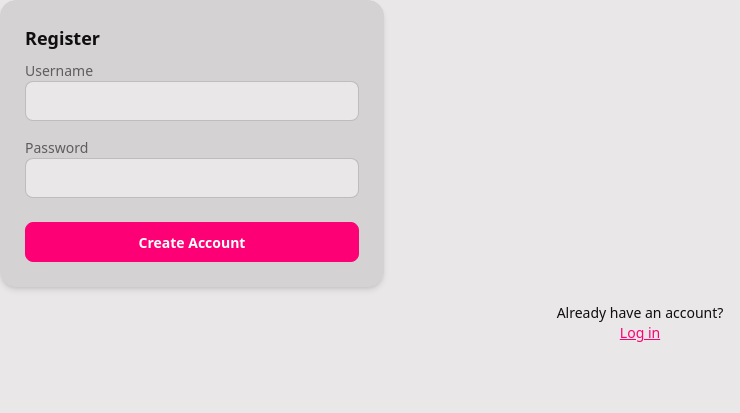
Test: RegisterForm › shows error when registration fails
Type "existing" into the field labelled "Username" at x=192, y=101, box [25,81,359,121]
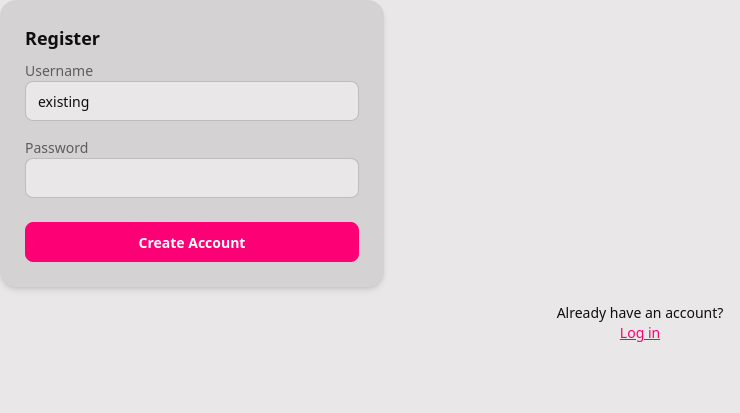
Type "password123" into the password field labelled "Password" at x=192, y=178, box [25,158,359,198]
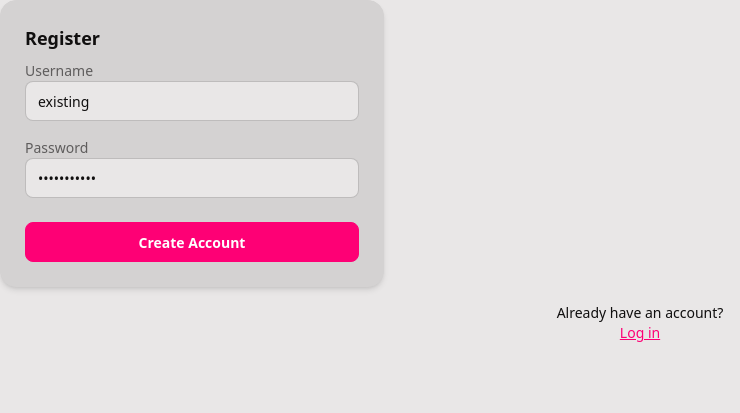
Click the button "Create Account" at x=192, y=242, box [25,222,359,262]
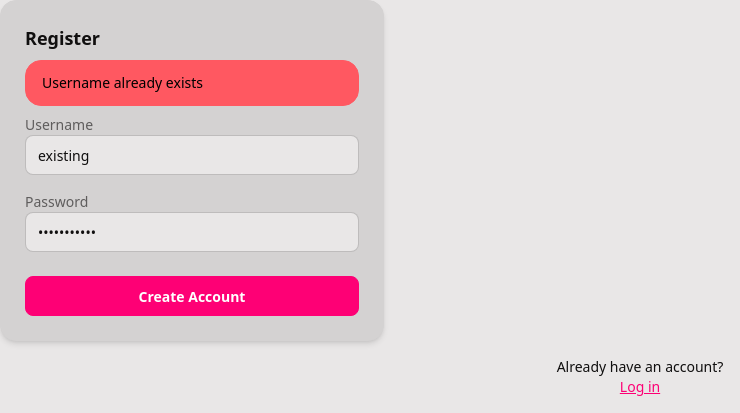
Result: the message reads "Username already exists" at [42,73,203,92]
